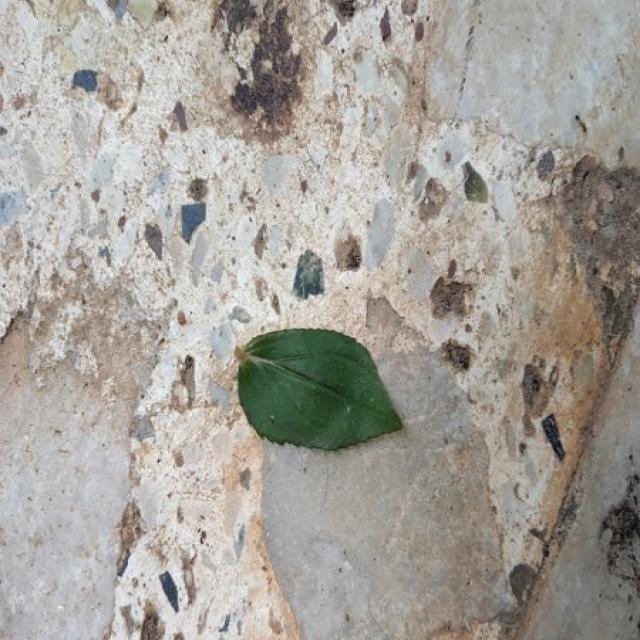Astma_weed: (238, 329, 402, 449)
